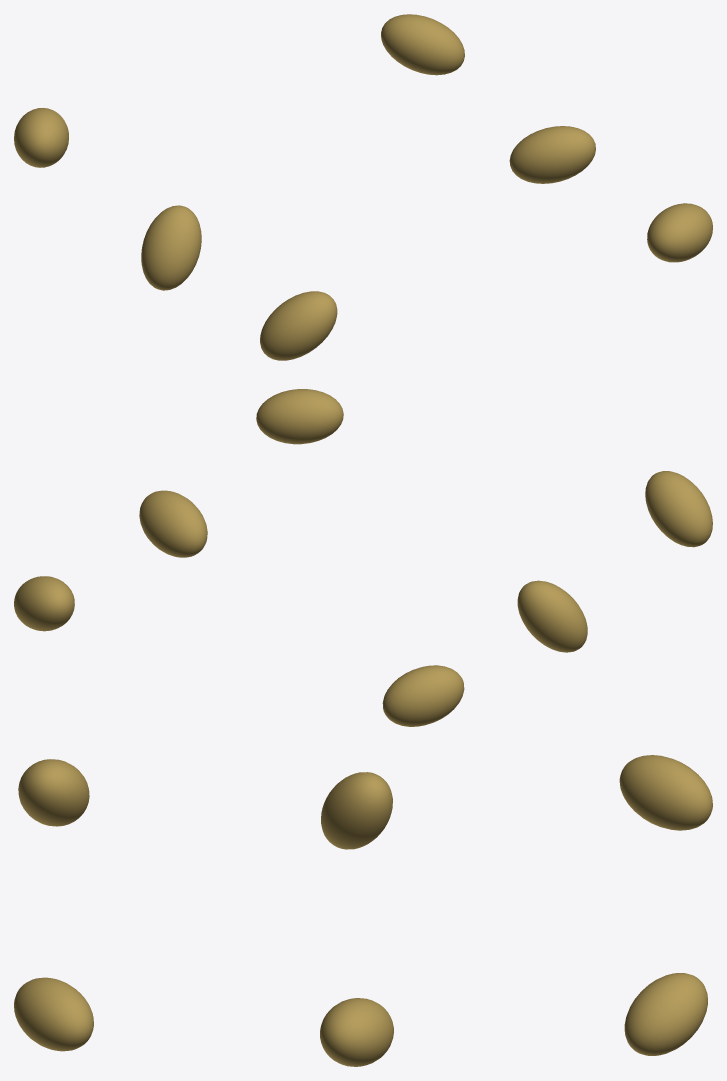
The model's file is Seeds.FBX.
3 views of the same model, one above another, from view 1: azimuth 30°, elevation 25°; view 2: azimuth 150°, elevation 25°; view 3: azimuth 270°, elevation 25° (orthographic). The views are drawn at different scales.
Parts seen in each view (by area): view 1: Sphere006; view 2: Sphere006; view 3: Sphere006.
Boxes of the visible parts, bbox=[...] form: Sphere006: bbox=[14, 14, 712, 360]; Sphere006: bbox=[14, 389, 712, 726]; Sphere006: bbox=[14, 755, 712, 1066].
Size of the model in its own units: 14.86 by 2.54 by 16.78.
